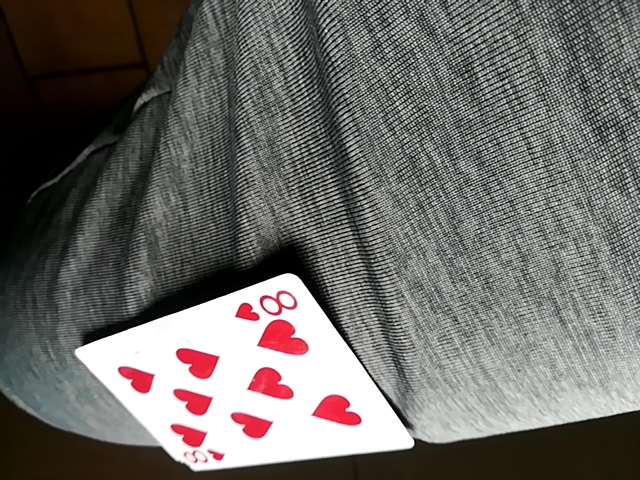hx 8: (74, 272, 410, 477)
